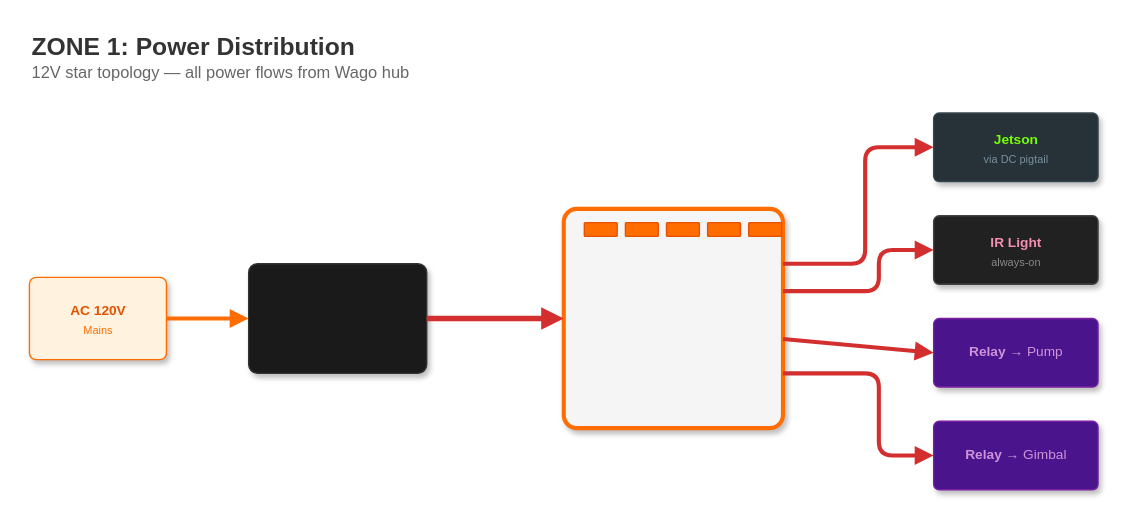
Some shapes in this 1130 by 523 pixel diagram are drawn without their labels. The centre of each missing label's shape, as x and y in pixels:
"Wago 221-415 ×2 (one +12V, one GND) 5-port each" goes at [674,320].
"● 12V 10A 120W Brick" goes at [338,320].
